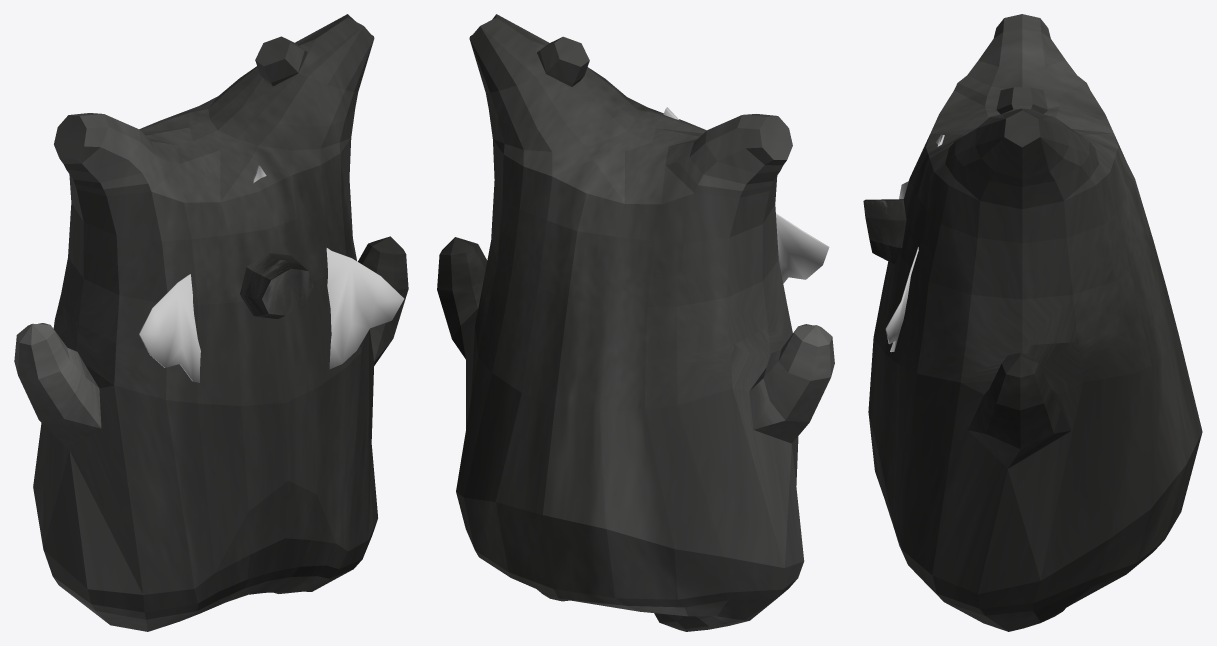
Rendered from frame_0058.obj.
3 renders of one model, left to right at view 1: azimuth 30°, elevation 25°; view 2: azimuth 150°, elevation 25°; view 3: azimuth 270°, elevation 25°, orthographic. The views are drawn at different scales.
Parts seen in each view (by area): view 1: korok, leaf, nose; view 2: korok, leaf; view 3: korok, nose, leaf.
Part boxes in pixels (x1,y1,x2,y2): korok: (14, 14, 408, 631); leaf: (139, 165, 404, 382); nose: (240, 252, 313, 318); korok: (437, 14, 834, 631); leaf: (663, 107, 829, 283); korok: (868, 14, 1202, 631); nose: (863, 199, 906, 264); leaf: (885, 134, 944, 352).
Size of the model in its own units: 1.53 by 2.08 by 1.17.
